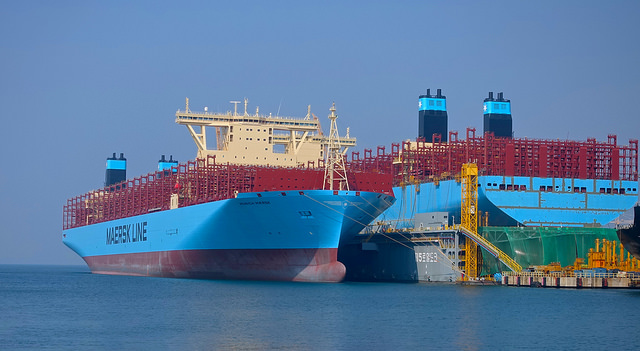container_ship: (62, 97, 391, 282)
